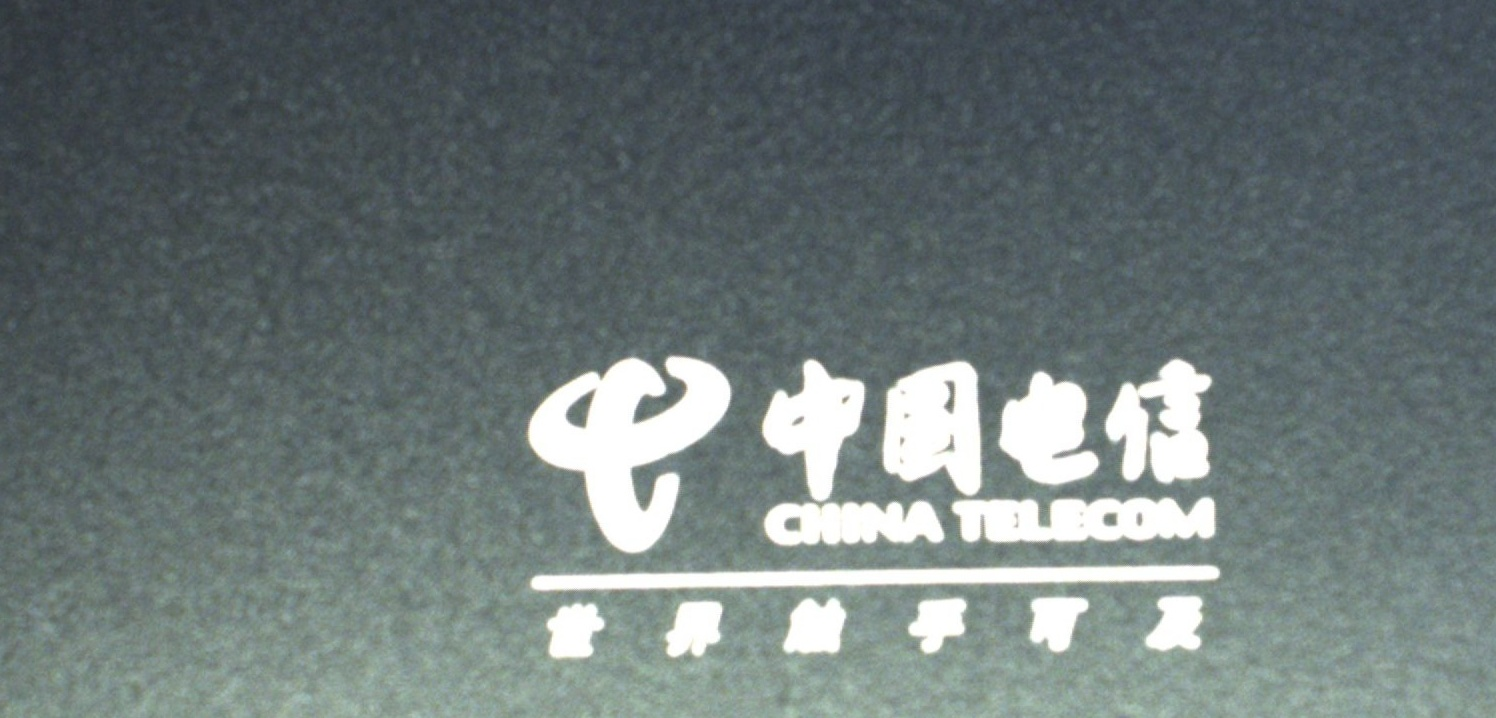AB_ChinaTelecom: (505, 343, 1239, 669)
